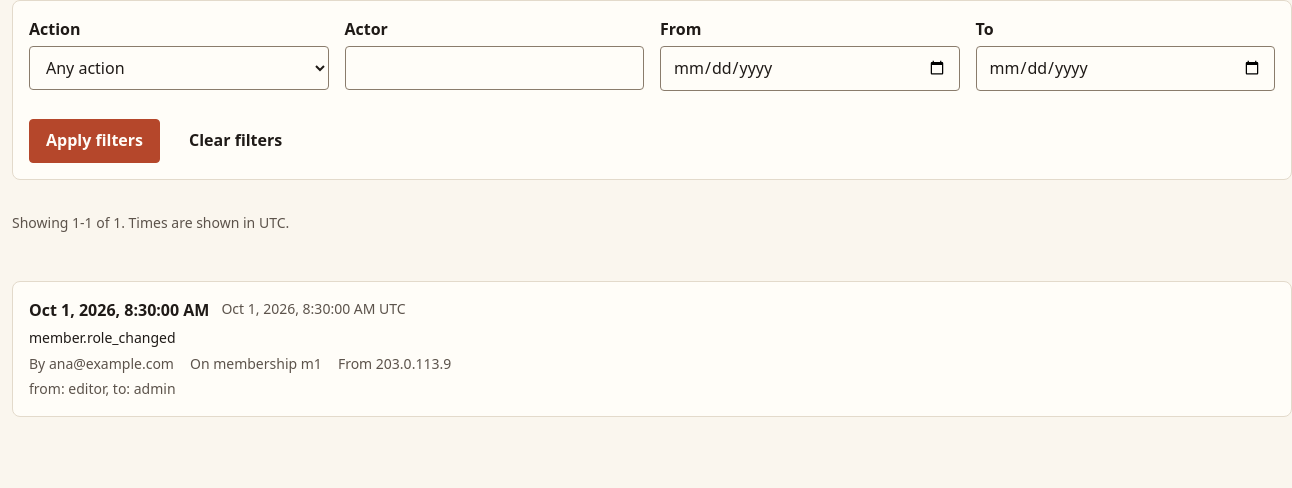
Test: AuditLog › shows the server's message when loading fails
The width and height of the screenshot is (1292, 488).
Click the button "Apply filters" at [94, 141], box [29,119,160,163]
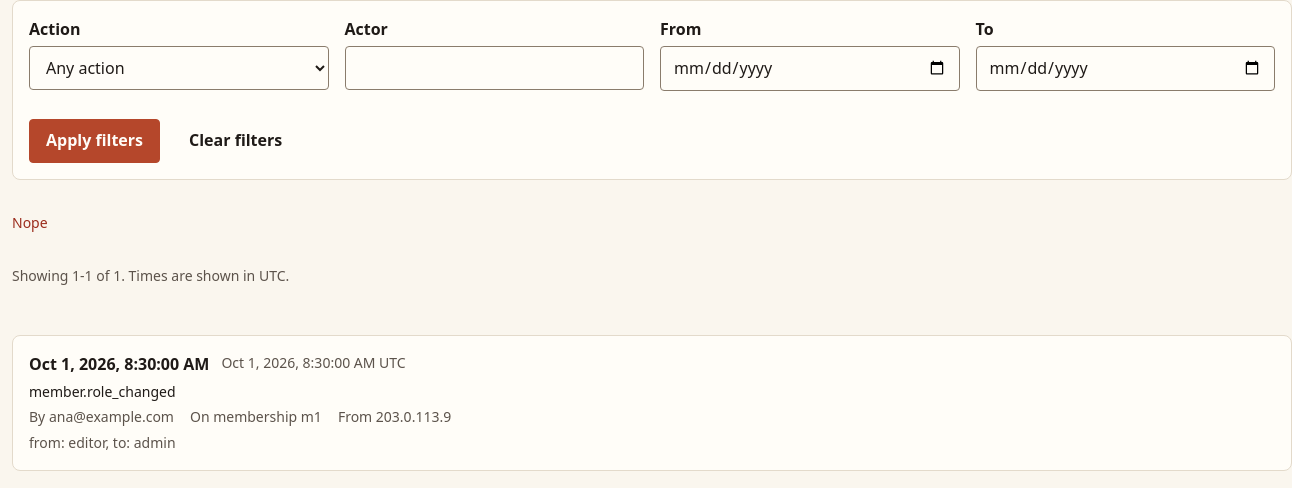
Result: the message reads "Nope" at [12,213,48,232]
